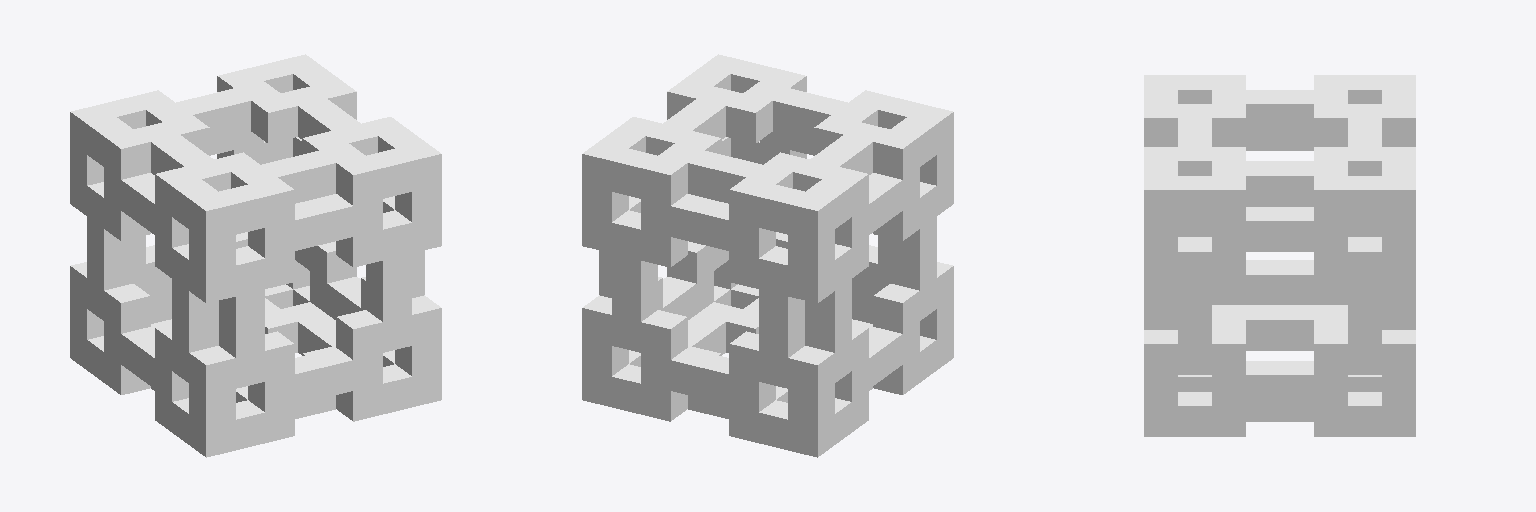
The model's file is gameCube_8_c.obj.
3 views of the same model, side by side, from view 1: azimuth 30°, elevation 25°; view 2: azimuth 150°, elevation 25°; view 3: azimuth 270°, elevation 25° (orthographic).
Parts seen in each view (by area): view 1: gameCube_8_c; view 2: gameCube_8_c; view 3: gameCube_8_c.
Boxes of the visible parts, x1,y1,x2,y2 form: gameCube_8_c: [70, 54, 441, 457]; gameCube_8_c: [582, 54, 953, 457]; gameCube_8_c: [1144, 75, 1415, 436].
Size of the model in its own units: 8 by 8 by 8.